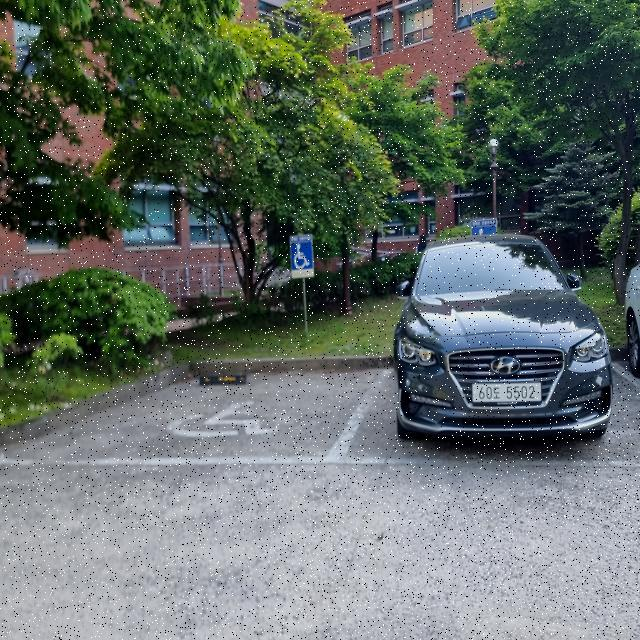empty: (10, 356, 373, 464)
occupied: (382, 216, 625, 454)
